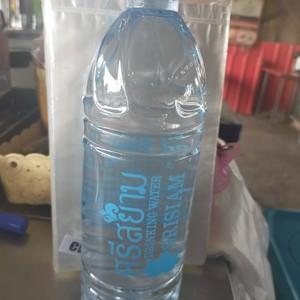plastic_bottle: (71, 1, 208, 300)
